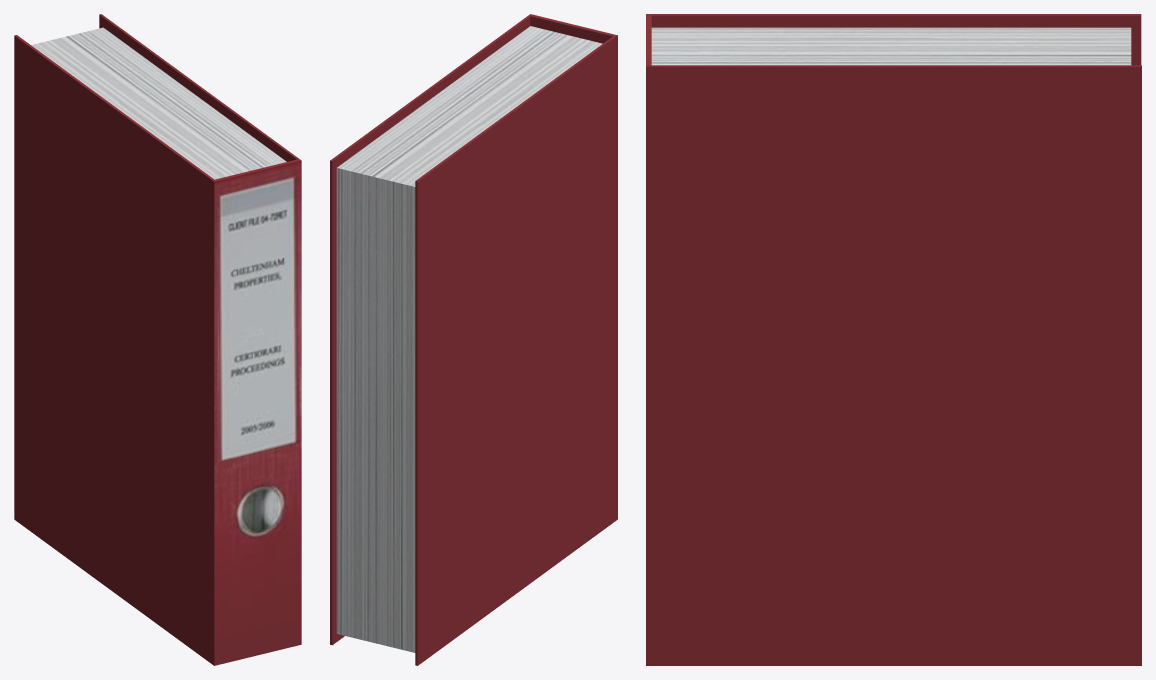
3 renders of one model, left to right at view 1: azimuth 30°, elevation 25°; view 2: azimuth 150°, elevation 25°; view 3: azimuth 270°, elevation 25°, orthographic. The views are drawn at different scales.
Visible parts, largest first — view 1: File 2; view 2: File 2; view 3: File 2.
Part boxes in pixels (left/top/right/bottom): File 2: left=14, top=14, right=301, bottom=665; File 2: left=330, top=14, right=617, bottom=665; File 2: left=646, top=14, right=1141, bottom=665.
Size of the model in its own units: 6.46 by 34.2 by 25.64.
Materials: 1 (1 with a texture image).
